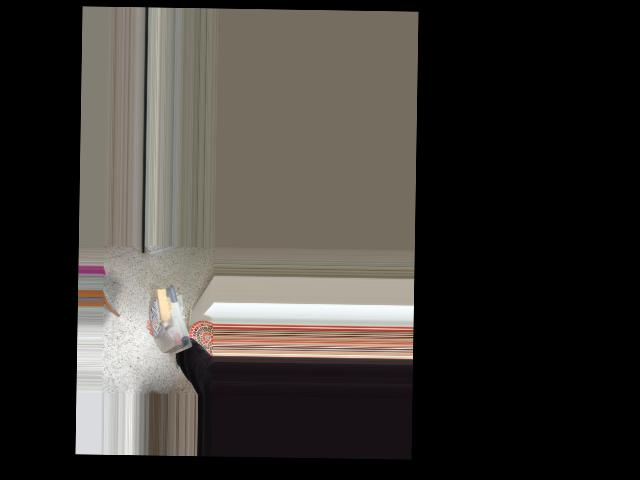cheese: (148, 282, 198, 353)
